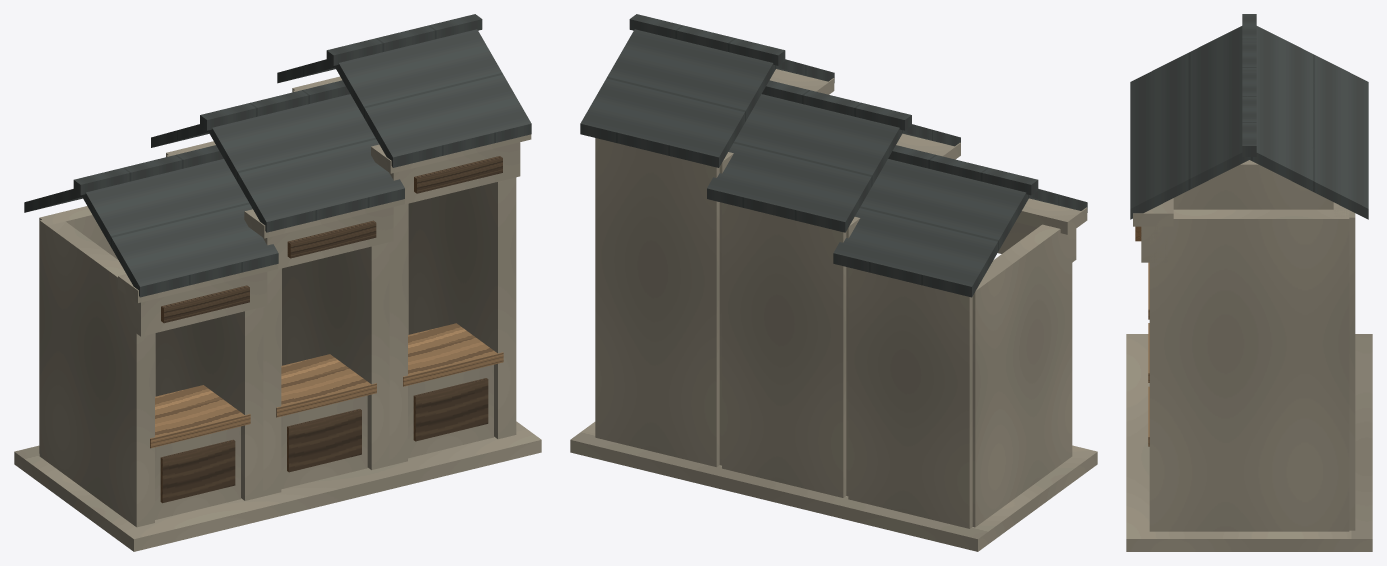
3 renders of one model, left to right at view 1: azimuth 30°, elevation 25°; view 2: azimuth 150°, elevation 25°; view 3: azimuth 270°, elevation 25°, orthographic. The views are drawn at different scales.
Parts seen in each view (by area): view 1: charlotte-amalie; view 2: charlotte-amalie; view 3: charlotte-amalie.
Part boxes in pixels (x1,y1,x2,y2): charlotte-amalie: (14, 14, 541, 551); charlotte-amalie: (570, 14, 1097, 551); charlotte-amalie: (1126, 14, 1372, 551).
Bounding box in the file's own units: 2.72 × 2.5 × 1.38.
Materials: 1 (1 with a texture image).
